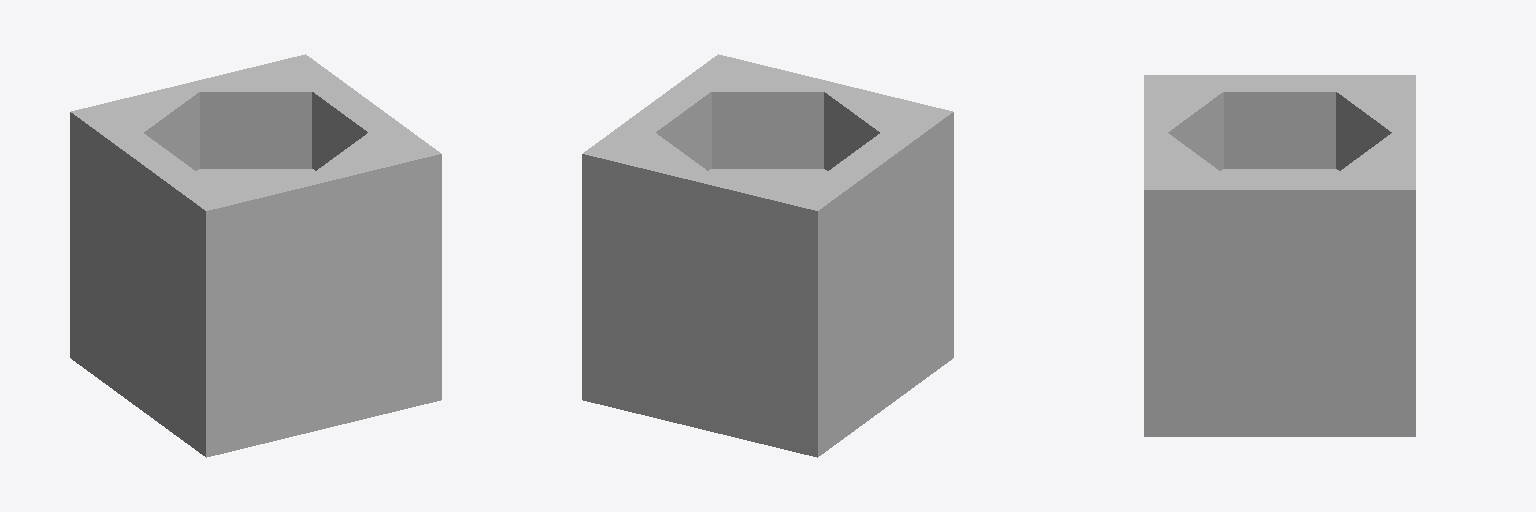
Rendered from Hexagon_cube_bottle_preprocessed.obj.
3 views of the same model, side by side, from view 1: azimuth 30°, elevation 25°; view 2: azimuth 150°, elevation 25°; view 3: azimuth 270°, elevation 25° (orthographic).
Size of the model in its own units: 0.08 by 0.08 by 0.08.